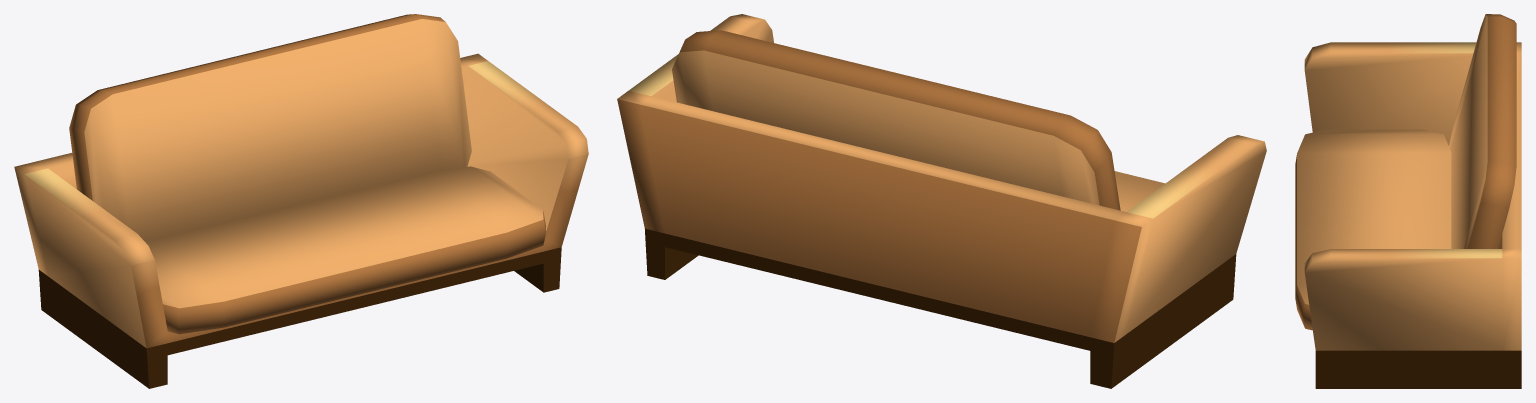
File: ThreeSeater_Couch.glb
3 renders of one model, left to right at view 1: azimuth 30°, elevation 25°; view 2: azimuth 150°, elevation 25°; view 3: azimuth 270°, elevation 25°, orthographic. The views are drawn at different scales.
Parts seen in each view (by area): view 1: 3seater; view 2: 3seater; view 3: 3seater.
Part boxes in pixels (x1=…): 3seater: x1=14, y1=14, x2=588, y2=388; 3seater: x1=617, y1=14, x2=1266, y2=388; 3seater: x1=1295, y1=14, x2=1521, y2=388.
Size of what is drawn, in the model's own units: 3.34 by 1.48 by 1.48.
1 material, 1 textured.
